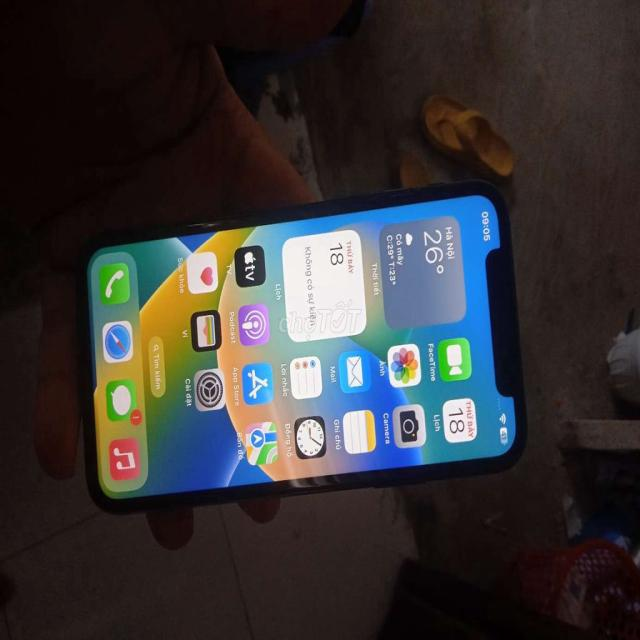gen_x_xs: (70, 179, 531, 515)
